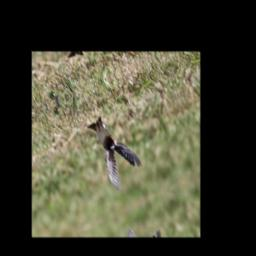Swallow: (86, 105, 146, 197)
